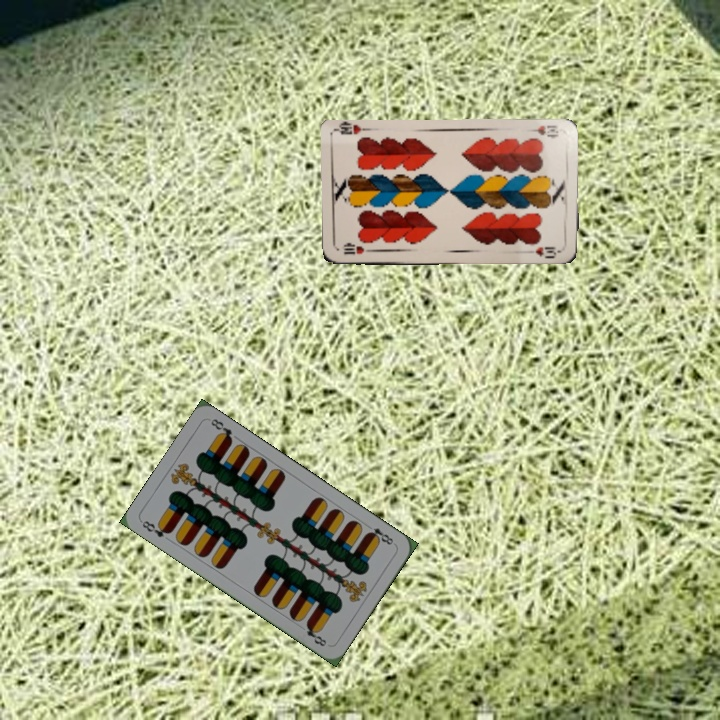E8: (362, 520, 398, 548), (138, 516, 174, 540)
H10: (523, 121, 561, 140), (340, 242, 375, 257)
